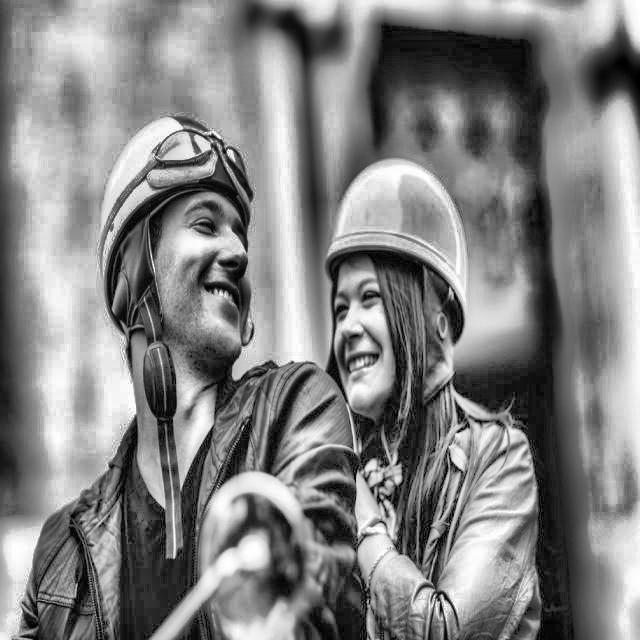Helmet: (317, 149, 476, 428)
